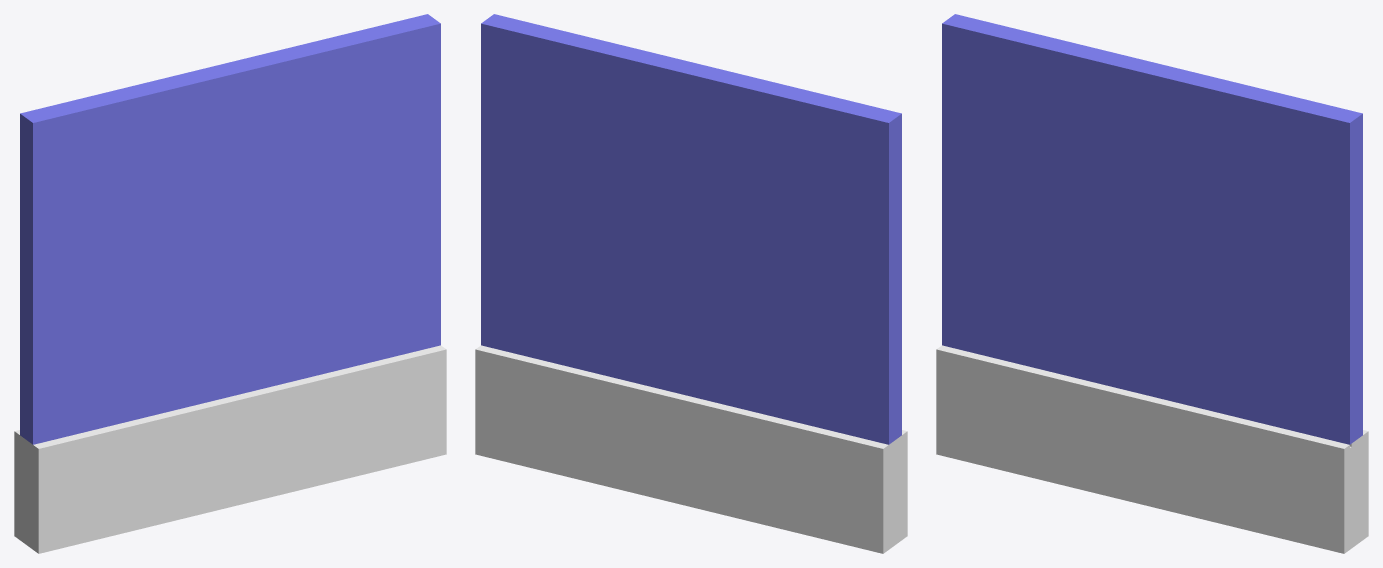
File: Operating_room_Window2-3.fbx
The picture shows the model from 3 angles, left to right: view 1: azimuth 30°, elevation 25°; view 2: azimuth 150°, elevation 25°; view 3: azimuth 330°, elevation 25°; orthographic projection.
Visible parts, largest first — view 1: Operating room Window2-3, Operating room Window2-3.001; view 2: Operating room Window2-3, Operating room Window2-3.001; view 3: Operating room Window2-3, Operating room Window2-3.001.
Boxes of the visible parts, x1,y1,x2,y2 form: Operating room Window2-3: (20,14,440,444); Operating room Window2-3.001: (14,345,446,553); Operating room Window2-3: (481,14,901,444); Operating room Window2-3.001: (475,345,907,553); Operating room Window2-3: (942,14,1362,444); Operating room Window2-3.001: (936,345,1368,553).
Size of the model in its own units: 12.6 by 12.6 by 1.3.
